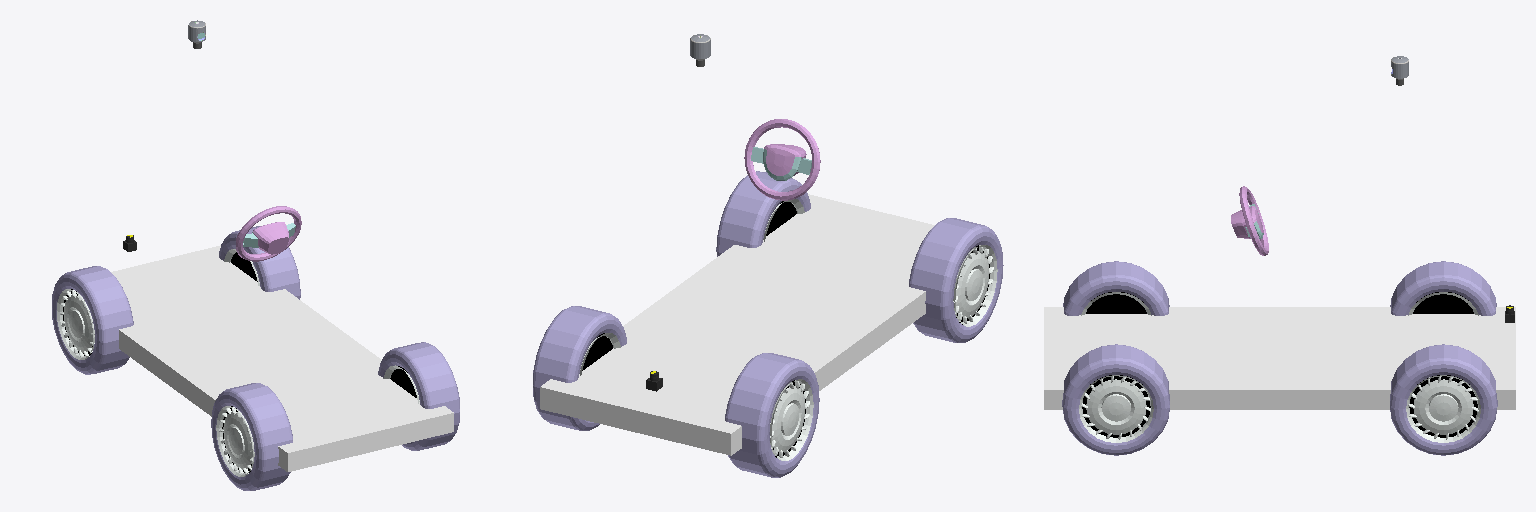
URDF robot description (toyotaComs):
<?xml version="1.0"?>
<robot name="toyotaComs">
  <link name="base_link">
    <visual>
      <geometry>
        <box size="0.9200 2.2025 0.1015"/>
      </geometry>
      <origin rpy="0 0 0 " xyz="0 0 0.225"/>
      <material name="white">
         <color rgba="1 1 1 1"/>
      </material>
    </visual>
    <collision>
      <geometry>
         <box size="0.9200 2.2025 0.1015"/>
      </geometry>
      <origin rpy="0 0 0 " xyz="0 0 0.225"/>
    </collision>
    <inertial>
      <mass value="10"/>
      <inertia ixx="0.012" ixy="0.0" ixz="0.0" iyy="0.012" iyz="0.0" izz="0.008"/>
    </inertial>
  </link>


<link name="left_back_wheel_base">
    <visual>
      <geometry>
        <cylinder length="0.15" radius="0.24" />
      </geometry>
      <material name="black">
       <color rgba="0 0 0 1"/>
      </material>
    </visual>
     <collision>
      <geometry>
        <cylinder length="0.15" radius="0.24" />
      </geometry>
    </collision>
    <inertial>
      <mass value="1"/>
      <inertia ixx="0.00498" ixy="0.0" ixz="0.0" iyy="0.00498" iyz="0.0" izz="0.00845"/>
     </inertial>
  </link>

 <joint name="nakedCar_freeAxisLeft" type="continuous">
    <axis xyz="0 0 1"/>
    <parent link="base_link"/>
    <child link="left_back_wheel_base"/>
    <origin rpy="1.57075 0 1.57075 " xyz="0.46 0.765 0.225"/>
    <limit effort="100" velocity="100"/>
    <joint_properties damping="0.0" friction="0.0"/>
  </joint>


<link name="left_back_wheel">
    <visual>
	<origin rpy="0 -1.571 0" xyz="0 0 0"/>
      <geometry>
        <mesh filename="package://vehicle_model/mesh/LeftWheel.dae"/>
      </geometry>
    </visual>
     <collision>
      <geometry>
        <mesh filename="package://vehicle_model/mesh/LeftWheel.dae"/>
      </geometry>
	 <origin rpy="0 -1.571 0" xyz="0 0 0"/>
    </collision>
    <inertial>
      <mass value="1"/>
      <inertia ixx="0.00498" ixy="0.0" ixz="0.0" iyy="0.00498" iyz="0.0" izz="0.00845"/>
     </inertial>
  </link>

 <joint name="left_back_wheel_joint" type="fixed">
    <axis xyz="0 0 1"/>
    <parent link="left_back_wheel_base"/>
    <child link="left_back_wheel"/>
    <origin rpy="0 0 0 " xyz="0 0 0"/>
    <limit effort="100" velocity="100"/>
    <joint_properties damping="0.0" friction="0.0"/>
  </joint>


<link name="right_back_wheel_base">
    <visual>
      <geometry>
        <cylinder length="0.15" radius="0.24" />
      </geometry>
      <material name="black">
       <color rgba="0 0 0 1"/>
      </material>
    </visual>
     <collision>
      <geometry>
        <cylinder length="0.15" radius="0.24" />
      </geometry>
    </collision>
    <inertial>
      <mass value="1"/>
      <inertia ixx="0.00498" ixy="0.0" ixz="0.0" iyy="0.00498" iyz="0.0" izz="0.00845"/>
     </inertial>
  </link>

 <joint name="nakedCar_freeAxisRight" type="continuous">
    <axis xyz="0 0 1"/>
    <parent link="base_link"/>
    <child link="right_back_wheel_base"/>
    <origin rpy="1.57075 0 1.57075 " xyz="-0.46 0.765 0.225"/>
    <limit effort="100" velocity="100"/>
    <joint_properties damping="0.0" friction="0.0"/>
  </joint>

<link name="right_back_wheel">
    <visual>
	<origin rpy="0 -1.571 0" xyz="0 0 0"/>
      <geometry>
        <mesh filename="package://vehicle_model/mesh/RightWheel.dae"/>
      </geometry>
    </visual>
     <collision>
      <geometry>
        <mesh filename="package://vehicle_model/mesh/RightWheel.dae"/>
      </geometry>
	 <origin rpy="0 -1.571 0" xyz="0 0 0"/>
    </collision>
    <inertial>
      <mass value="1"/>
      <inertia ixx="0.00498" ixy="0.0" ixz="0.0" iyy="0.00498" iyz="0.0" izz="0.00845"/>
     </inertial>
  </link>

 <joint name="right_back_wheel_joint" type="fixed">
    <axis xyz="0 0 1"/>
    <parent link="right_back_wheel_base"/>
    <child link="right_back_wheel"/>
    <origin rpy="0 0 0 " xyz="0 0 0"/>
    <limit effort="100" velocity="100"/>
    <joint_properties damping="0.0" friction="0.0"/>
  </joint>


<link name="left_front_wheel_base">
    <visual>
      <geometry>
        <cylinder length="0.15" radius="0.24" />
      </geometry>
      <material name="black">
       <color rgba="0 0 0 1"/>
      </material>
    </visual>
     <collision>
      <geometry>
        <cylinder length="0.15" radius="0.24" />
      </geometry>
    </collision>
    <inertial>
      <mass value="1"/>
      <inertia ixx="0.00498" ixy="0.0" ixz="0.0" iyy="0.00498" iyz="0.0" izz="0.00845"/>
     </inertial>
  </link>

 <joint name="nakedCar_steeringLeft" type="revolute">
    <axis xyz="0 1 0"/>
    <parent link="base_link"/>
    <child link="left_front_wheel_base"/>
    <origin rpy="1.57075 0 1.57075 " xyz="0.46 -0.765 0.225"/>
    <limit effort="1000.0" lower="-0.785" upper="0.785" velocity="0.5"/>
    <joint_properties damping="0.0" friction="0.0"/>
  </joint>

<link name="left_front_wheel">
    <visual>
	<origin rpy="0 -1.571 0" xyz="0 0 0"/>
      <geometry>
        <mesh filename="package://vehicle_model/mesh/LeftWheel.dae"/>
      </geometry>
    </visual>
     <collision>
      <geometry>
        <mesh filename="package://vehicle_model/mesh/LeftWheel.dae"/>
      </geometry>
	 <origin rpy="0 -1.571 0" xyz="0 0 0"/>
    </collision>
    <inertial>
      <mass value="1"/>
      <inertia ixx="0.00498" ixy="0.0" ixz="0.0" iyy="0.00498" iyz="0.0" izz="0.00845"/>
     </inertial>
  </link>


 <joint name="nakedCar_motorLeft" type="continuous">
    <axis xyz="0 0 1"/>
    <parent link="left_front_wheel_base"/>
    <child link="left_front_wheel"/>
    <origin rpy="0 0 0 " xyz="0.0 0.0 0.0"/>
    <limit effort="100" velocity="100"/>
    <joint_properties damping="0.0" friction="0.0"/>
  </joint>

<link name="right_front_wheel_base">
    <visual>
      <geometry>
        <cylinder length="0.15" radius="0.24" />
      </geometry>
      <material name="black">
       <color rgba="0 0 0 1"/>
      </material>
    </visual>
     <collision>
      <geometry>
        <cylinder length="0.15" radius="0.24" />
      </geometry>
    </collision>
    <inertial>
      <mass value="1"/>
      <inertia ixx="0.00498" ixy="0.0" ixz="0.0" iyy="0.00498" iyz="0.0" izz="0.00845"/>
     </inertial>
  </link>

 <joint name="nakedCar_steeringRight" type="revolute">
    <axis xyz="0 1 0"/>
    <parent link="base_link"/>
    <child link="right_front_wheel_base"/>
    <origin rpy="1.57075 0 1.57075 " xyz="-0.46 -0.765 0.225"/>
    <limit effort="1000.0" lower="-0.785" upper="0.785" velocity="0.5"/>
    <joint_properties damping="0.0" friction="0.0"/>
  </joint>

<link name="right_front_wheel">
    <visual>
	<origin rpy="0 -1.571 0" xyz="0 0 0"/>
      <geometry>
        <mesh filename="package://vehicle_model/mesh/RightWheel.dae"/>
      </geometry>
    </visual>
     <collision>
      <geometry>
        <mesh filename="package://vehicle_model/mesh/RightWheel.dae"/>
      </geometry>
	 <origin rpy="0 -1.571 0" xyz="0 0 0"/>
    </collision>
    <inertial>
      <mass value="1"/>
      <inertia ixx="0.00498" ixy="0.0" ixz="0.0" iyy="0.00498" iyz="0.0" izz="0.00845"/>
     </inertial>
  </link>

 <joint name="nakedCar_motorRight" type="continuous">
    <axis xyz="0 0 1"/>
    <parent link="right_front_wheel_base"/>
    <child link="right_front_wheel"/>
    <origin rpy="0 0 0 " xyz="0 0 0"/>
    <limit effort="100" velocity="100"/>
    <joint_properties damping="0.0" friction="0.0"/>
  </joint>




<link name="car_body">
    <visual>
      <origin rpy="0 0 0" xyz="0 0 0"/>
      <geometry>
        <mesh filename="package://vehicle_model/mesh/carbody.dae"/>
      </geometry>
    </visual>
    <collision>
      <geometry>
        <mesh filename="package://vehicle_model/mesh/carbody.dae"/>
      </geometry>
     <origin rpy="0 0 0" xyz="0 0 0"/>
    </collision>
    <inertial>
      <mass value="0.05"/>
     <inertia ixx="0.012" ixy="0.0" ixz="0.0" iyy="0.012" iyz="0.0" izz="0.008"/>
    </inertial>
  </link>

<joint name="car_body_joint" type="fixed">
    <axis xyz="0 0 0"/>
    
    <origin rpy="0 0 0" xyz="0 0 0"/>
    <parent link="base_link"/>
    <child link="car_body"/>
  </joint>


<link name="steering_wheel_base">
    <visual>
      <geometry>
         <cylinder length="0.07" radius="0.04" />
      </geometry>
   <material name="grey">
       <color rgba="0.4 0.4 0.4 1"/>
  </material>
    </visual>
    <collision>
      <geometry>
      <cylinder length="0.7" radius="0.04" />
      </geometry>
    </collision>
    <inertial>
      <mass value="0.05"/>
     <inertia ixx="0.012" ixy="0.0" ixz="0.0" iyy="0.012" iyz="0.0" izz="0.008"/>
    </inertial>
  </link>

<joint name="nakedCar_steeringWheel" type="continuous">
    <axis xyz="0 0 1"/>
    
    <origin rpy=" -1.207 0 0" xyz="0 -0.1536 0.9208"/>
    <parent link="base_link"/>
    <child link="steering_wheel_base"/>
  </joint>

<link name="steering_wheel">
    <visual>
      <origin rpy="0 0 0" xyz="0 0 0"/>
      <geometry>
        <mesh filename="package://vehicle_model/mesh/steeringWheel.dae"/>
      </geometry>
    </visual>
    <collision>
      <geometry>
        <mesh filename="package://vehicle_model/mesh/steeringWheel.dae"/>
      </geometry>
     <origin rpy="0 0 0" xyz="0 0 0"/>
    </collision>
    <inertial>
      <mass value="0.05"/>
     <inertia ixx="0.012" ixy="0.0" ixz="0.0" iyy="0.012" iyz="0.0" izz="0.008"/>
    </inertial>
  </link>

<joint name="steering_wheel_joint" type="fixed">
    <axis xyz="0 0 1"/> 
    <origin rpy="1.207 0 0" xyz="0 0 0"/>
    <parent link="steering_wheel_base"/>
    <child link="steering_wheel"/>

  </joint>


<link name="velodyne_base">
    <visual>
      <geometry>
         <cylinder length="0.03" radius="0.02" />
      </geometry>
   <material name="grey">
       <color rgba="0.4 0.4 0.4 1"/>
  </material>
    </visual>
    <collision>
      <geometry>
      <cylinder length="0.03" radius="0.02" />
      </geometry>
    </collision>
    <inertial>
      <mass value="0.05"/>
     <inertia ixx="0.012" ixy="0.0" ixz="0.0" iyy="0.012" iyz="0.0" izz="0.008"/>
    </inertial>
  </link>

<joint name="velodyne_base_joint" type="fixed">
    <axis xyz="0 0 0"/>
    
    <origin rpy="0 0 0" xyz="0 0.5619 1.657"/>
    <parent link="base_link"/>
    <child link="velodyne_base"/>
  </joint>

<link name="velodyne32">
    <visual>
      <origin rpy="0 0 0" xyz="0 0 0"/>
      <geometry>
        <mesh filename="package://vehicle_model/mesh/velodyne_32.dae"/>
      </geometry>
    </visual>
    <collision>
      <geometry>
        <mesh filename="package://vehicle_model/mesh/velodyne_32.dae"/>
      </geometry>
     <origin rpy="0 0 0" xyz="0 0 0"/>
    </collision>
    <inertial>
      <mass value="0.05"/>
     <inertia ixx="0.012" ixy="0.0" ixz="0.0" iyy="0.012" iyz="0.0" izz="0.008"/>
    </inertial>
  </link>

<joint name="velodyne_32E_rotJoint" type="continuous">
    <axis xyz="0 0 1"/> 
    <origin rpy="0 0 0" xyz="0 0 0"/>
    <parent link="velodyne_base"/>
    <child link="velodyne32"/>
</joint>

<link name="Hokuyo_URG_04LX_UG01_ROS">
    <visual>
      <origin rpy="0 0 0" xyz="0 0 0"/>
      <geometry>
        <mesh filename="package://vehicle_model/mesh/hokuyo_URG04.dae"/>
      </geometry>
    </visual>
    <collision>
      <geometry>
        <mesh filename="package://vehicle_model/mesh/hokuyo_URG04.dae"/>
      </geometry>
     <origin rpy="0 0 0" xyz="0 0 0"/>
    </collision>
  </link>

<joint name="hokuyo_base_joint" type="fixed">
    <axis xyz="0 0 0"/>
    <origin rpy="0 0 0" xyz="0 1.2 0.3850"/>
    <parent link="base_link"/>
    <child link="Hokuyo_URG_04LX_UG01_ROS"/>
</joint>



</robot>

--- Facts derived from the render (not from the file) ---
Views: 3 orthographic renders of the robot side by side, from view 1: azimuth 30°, elevation 25°; view 2: azimuth 150°, elevation 25°; view 3: azimuth 270°, elevation 25°.
Model toyotaComs with 15 links and 14 joints (2 revolute, 6 continuous, 6 fixed), rooted at base_link, posed all joints at 0.
Links seen in each view (by area): view 1: base_link, right_back_wheel, right_front_wheel, left_front_wheel, steering_wheel, left_back_wheel; view 2: base_link, right_front_wheel, right_back_wheel, left_back_wheel, left_front_wheel, steering_wheel; view 3: base_link, left_front_wheel, left_back_wheel, right_back_wheel, right_front_wheel, steering_wheel, right_front_wheel_base, right_back_wheel_base.
Link boxes in pixels (x1,y1,x2,y2): base_link: [111, 245, 453, 471]; right_back_wheel: [52, 266, 133, 374]; right_front_wheel: [211, 383, 292, 490]; left_front_wheel: [378, 342, 459, 450]; steering_wheel: [236, 206, 301, 261]; left_back_wheel: [219, 226, 300, 299]; base_link: [540, 194, 934, 455]; right_front_wheel: [909, 218, 1003, 342]; right_back_wheel: [725, 353, 819, 477]; left_back_wheel: [533, 306, 626, 430]; left_front_wheel: [716, 171, 810, 256]; steering_wheel: [744, 119, 820, 200]; base_link: [1044, 307, 1515, 409]; left_front_wheel: [1062, 344, 1169, 455]; left_back_wheel: [1390, 344, 1497, 455]; right_back_wheel: [1390, 261, 1496, 315]; right_front_wheel: [1063, 261, 1169, 315]; steering_wheel: [1231, 186, 1268, 255]; right_front_wheel_base: [1086, 292, 1146, 313]; right_back_wheel_base: [1413, 292, 1473, 313].
Bounding box of the posed robot: 1.12 × 2.2 × 1.8 m (x, y, z).
Meshes: 6 distinct files referenced, 7 mesh visuals loaded (5 Collada DAE); not drawn: 1 (reference not matched to a file when rendering).